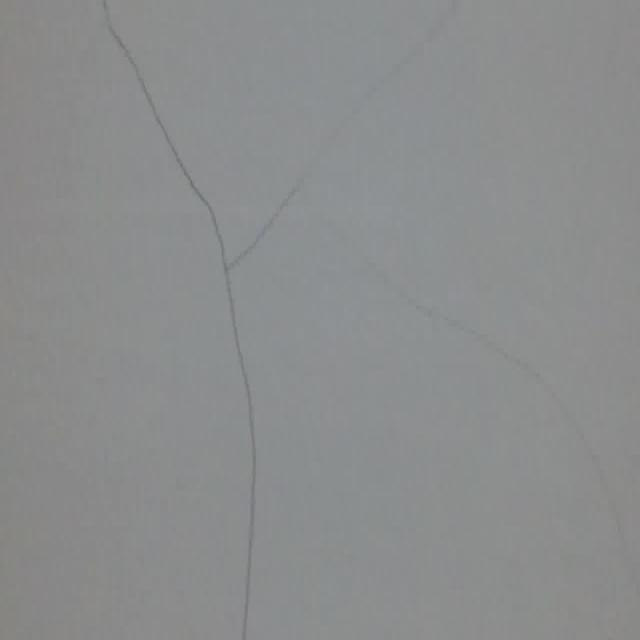Crack: (104, 0, 313, 636)
